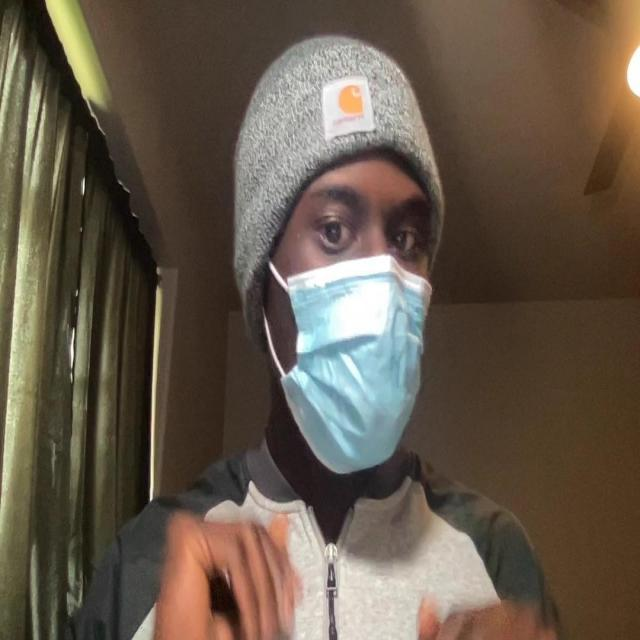face: (251, 124, 441, 478)
